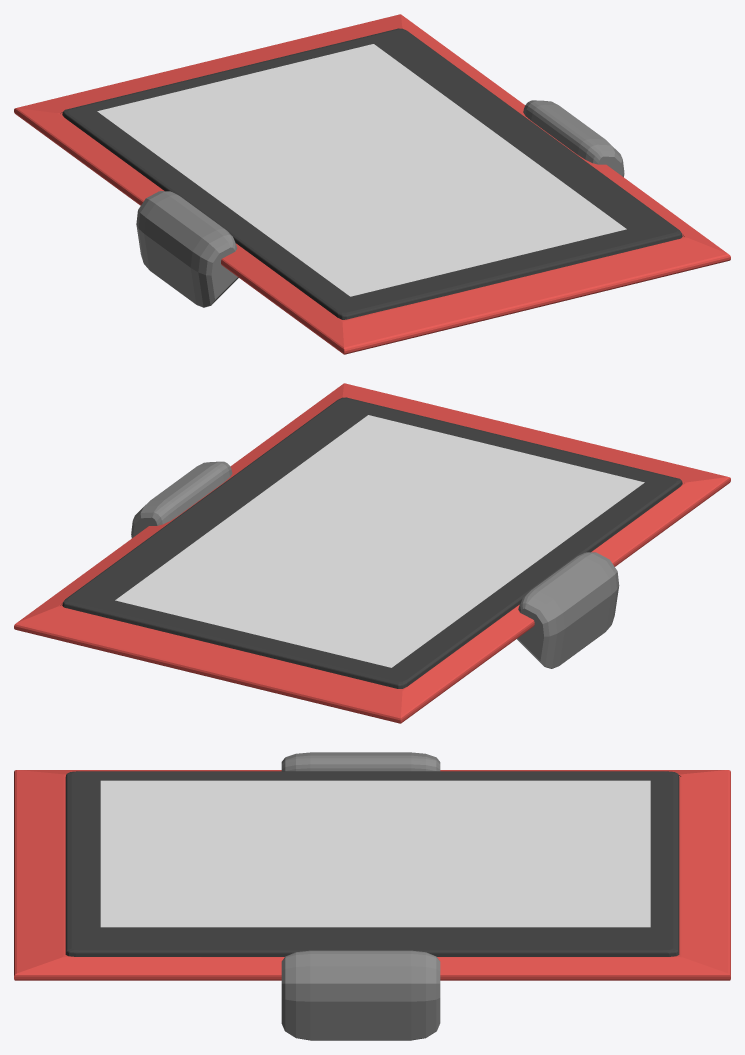
Rendered from PlatformMedium.fbx.
The picture shows the model from 3 angles, top to bottom: view 1: azimuth 30°, elevation 25°; view 2: azimuth 150°, elevation 25°; view 3: azimuth 270°, elevation 25°; orthographic projection. The views are drawn at different scales.
Visible parts, largest first — view 1: PlatformMedium; view 2: PlatformMedium; view 3: PlatformMedium.
Boxes of the visible parts, x1=… form: PlatformMedium: x1=14, y1=14, x2=730, y2=354; PlatformMedium: x1=14, y1=383, x2=730, y2=723; PlatformMedium: x1=14, y1=752, x2=730, y2=1040.
Size of the model in its own units: 433 by 68.02 by 582.
